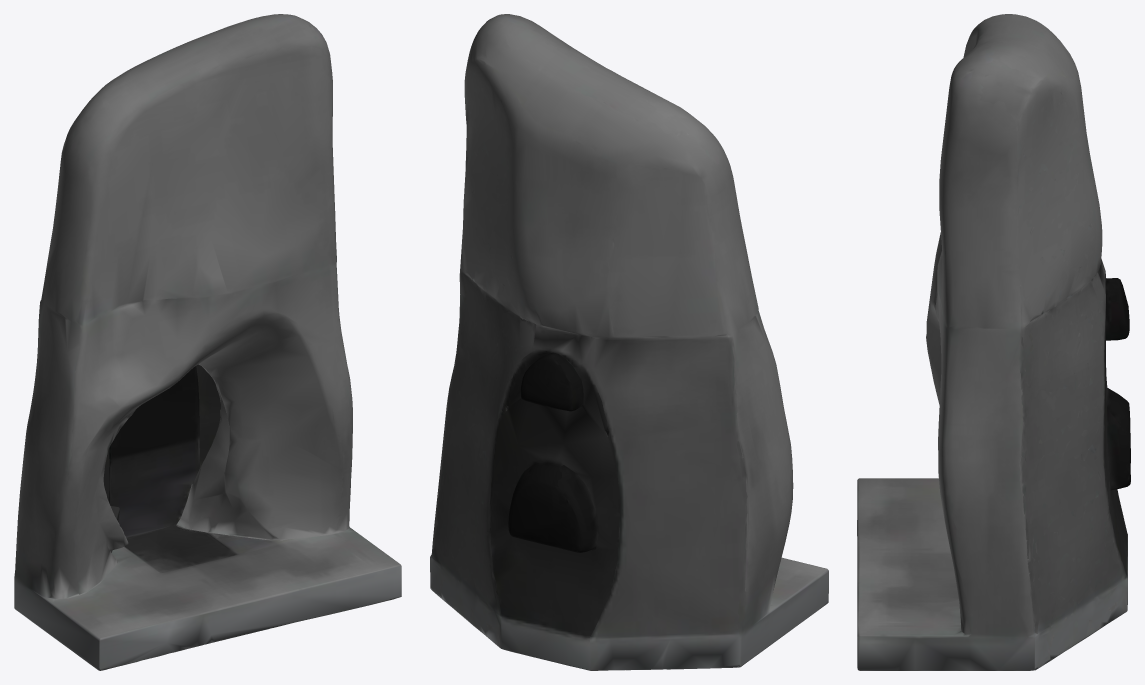
Rendered from eYH-KBGWHqN7AfipmRXgS.glb.
The picture shows the model from 3 angles, left to right: view 1: azimuth 30°, elevation 25°; view 2: azimuth 150°, elevation 25°; view 3: azimuth 270°, elevation 25°; orthographic projection. The views are drawn at different scales.
Parts seen in each view (by area): view 1: geometry_0; view 2: geometry_0; view 3: geometry_0.
Part boxes in pixels (left/top/right/bottom): geometry_0: left=14, top=14, right=401, bottom=670; geometry_0: left=430, top=14, right=828, bottom=670; geometry_0: left=857, top=14, right=1130, bottom=670.
Size of the model in its own units: 0.5941 by 1 by 0.424.
Materials: 1 (1 with a texture image).
